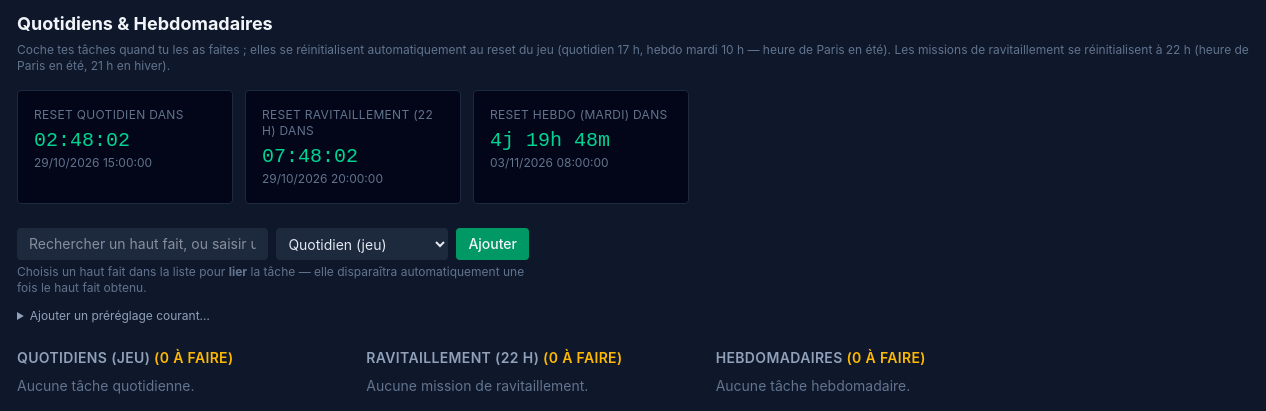
Scenario: RecurringView › searches unobtained achievements to link a task
In the field with placeholder "Rechercher un haut fait, ou saisir une tâche libre…": (143, 244) left=17, top=228, right=268, bottom=260, type "c"
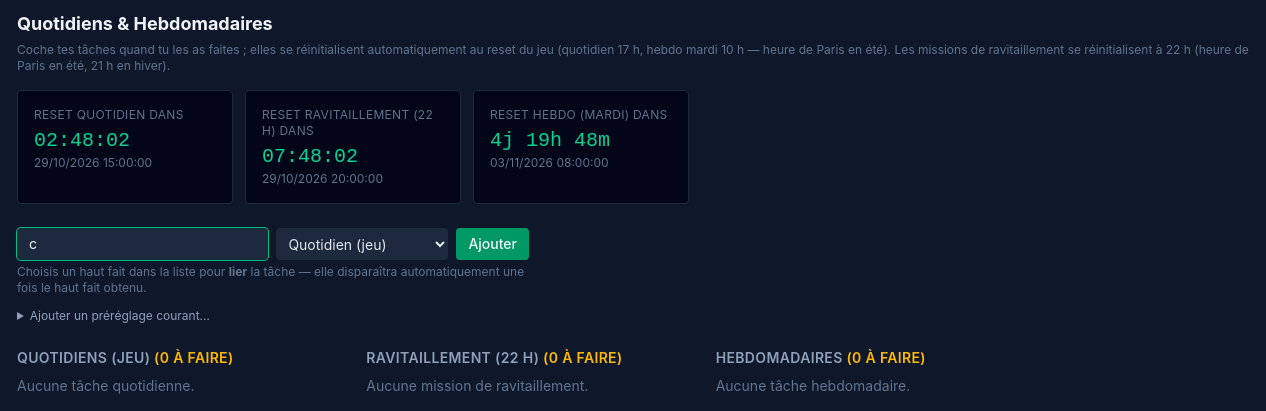
In the field with placeholder "Rechercher un haut fait, ou saisir une tâche libre…": (143, 244) left=17, top=228, right=268, bottom=260, type "h"
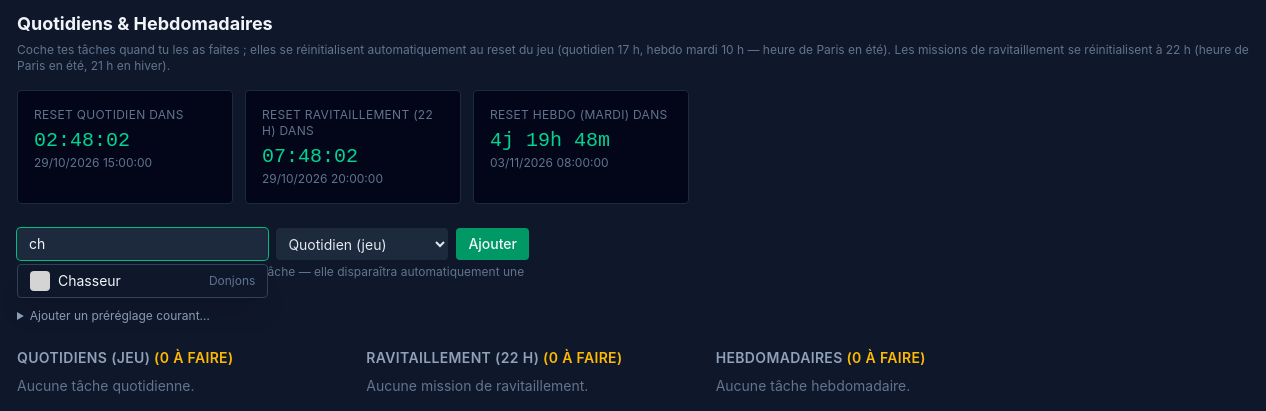
Click the button "Chasseur Donjons": click(143, 281) left=18, top=265, right=267, bottom=297
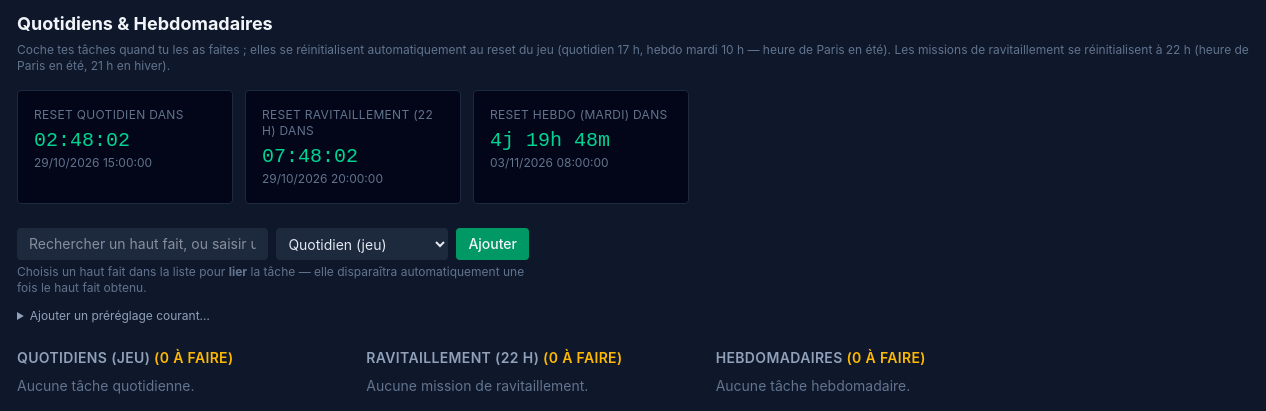
Expected: the button "Chasseur" is gone
